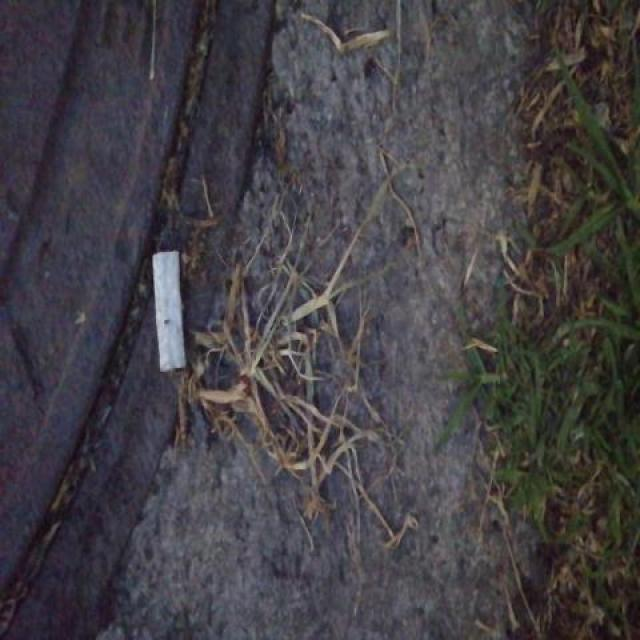non-organic waste: (147, 247, 190, 376)
